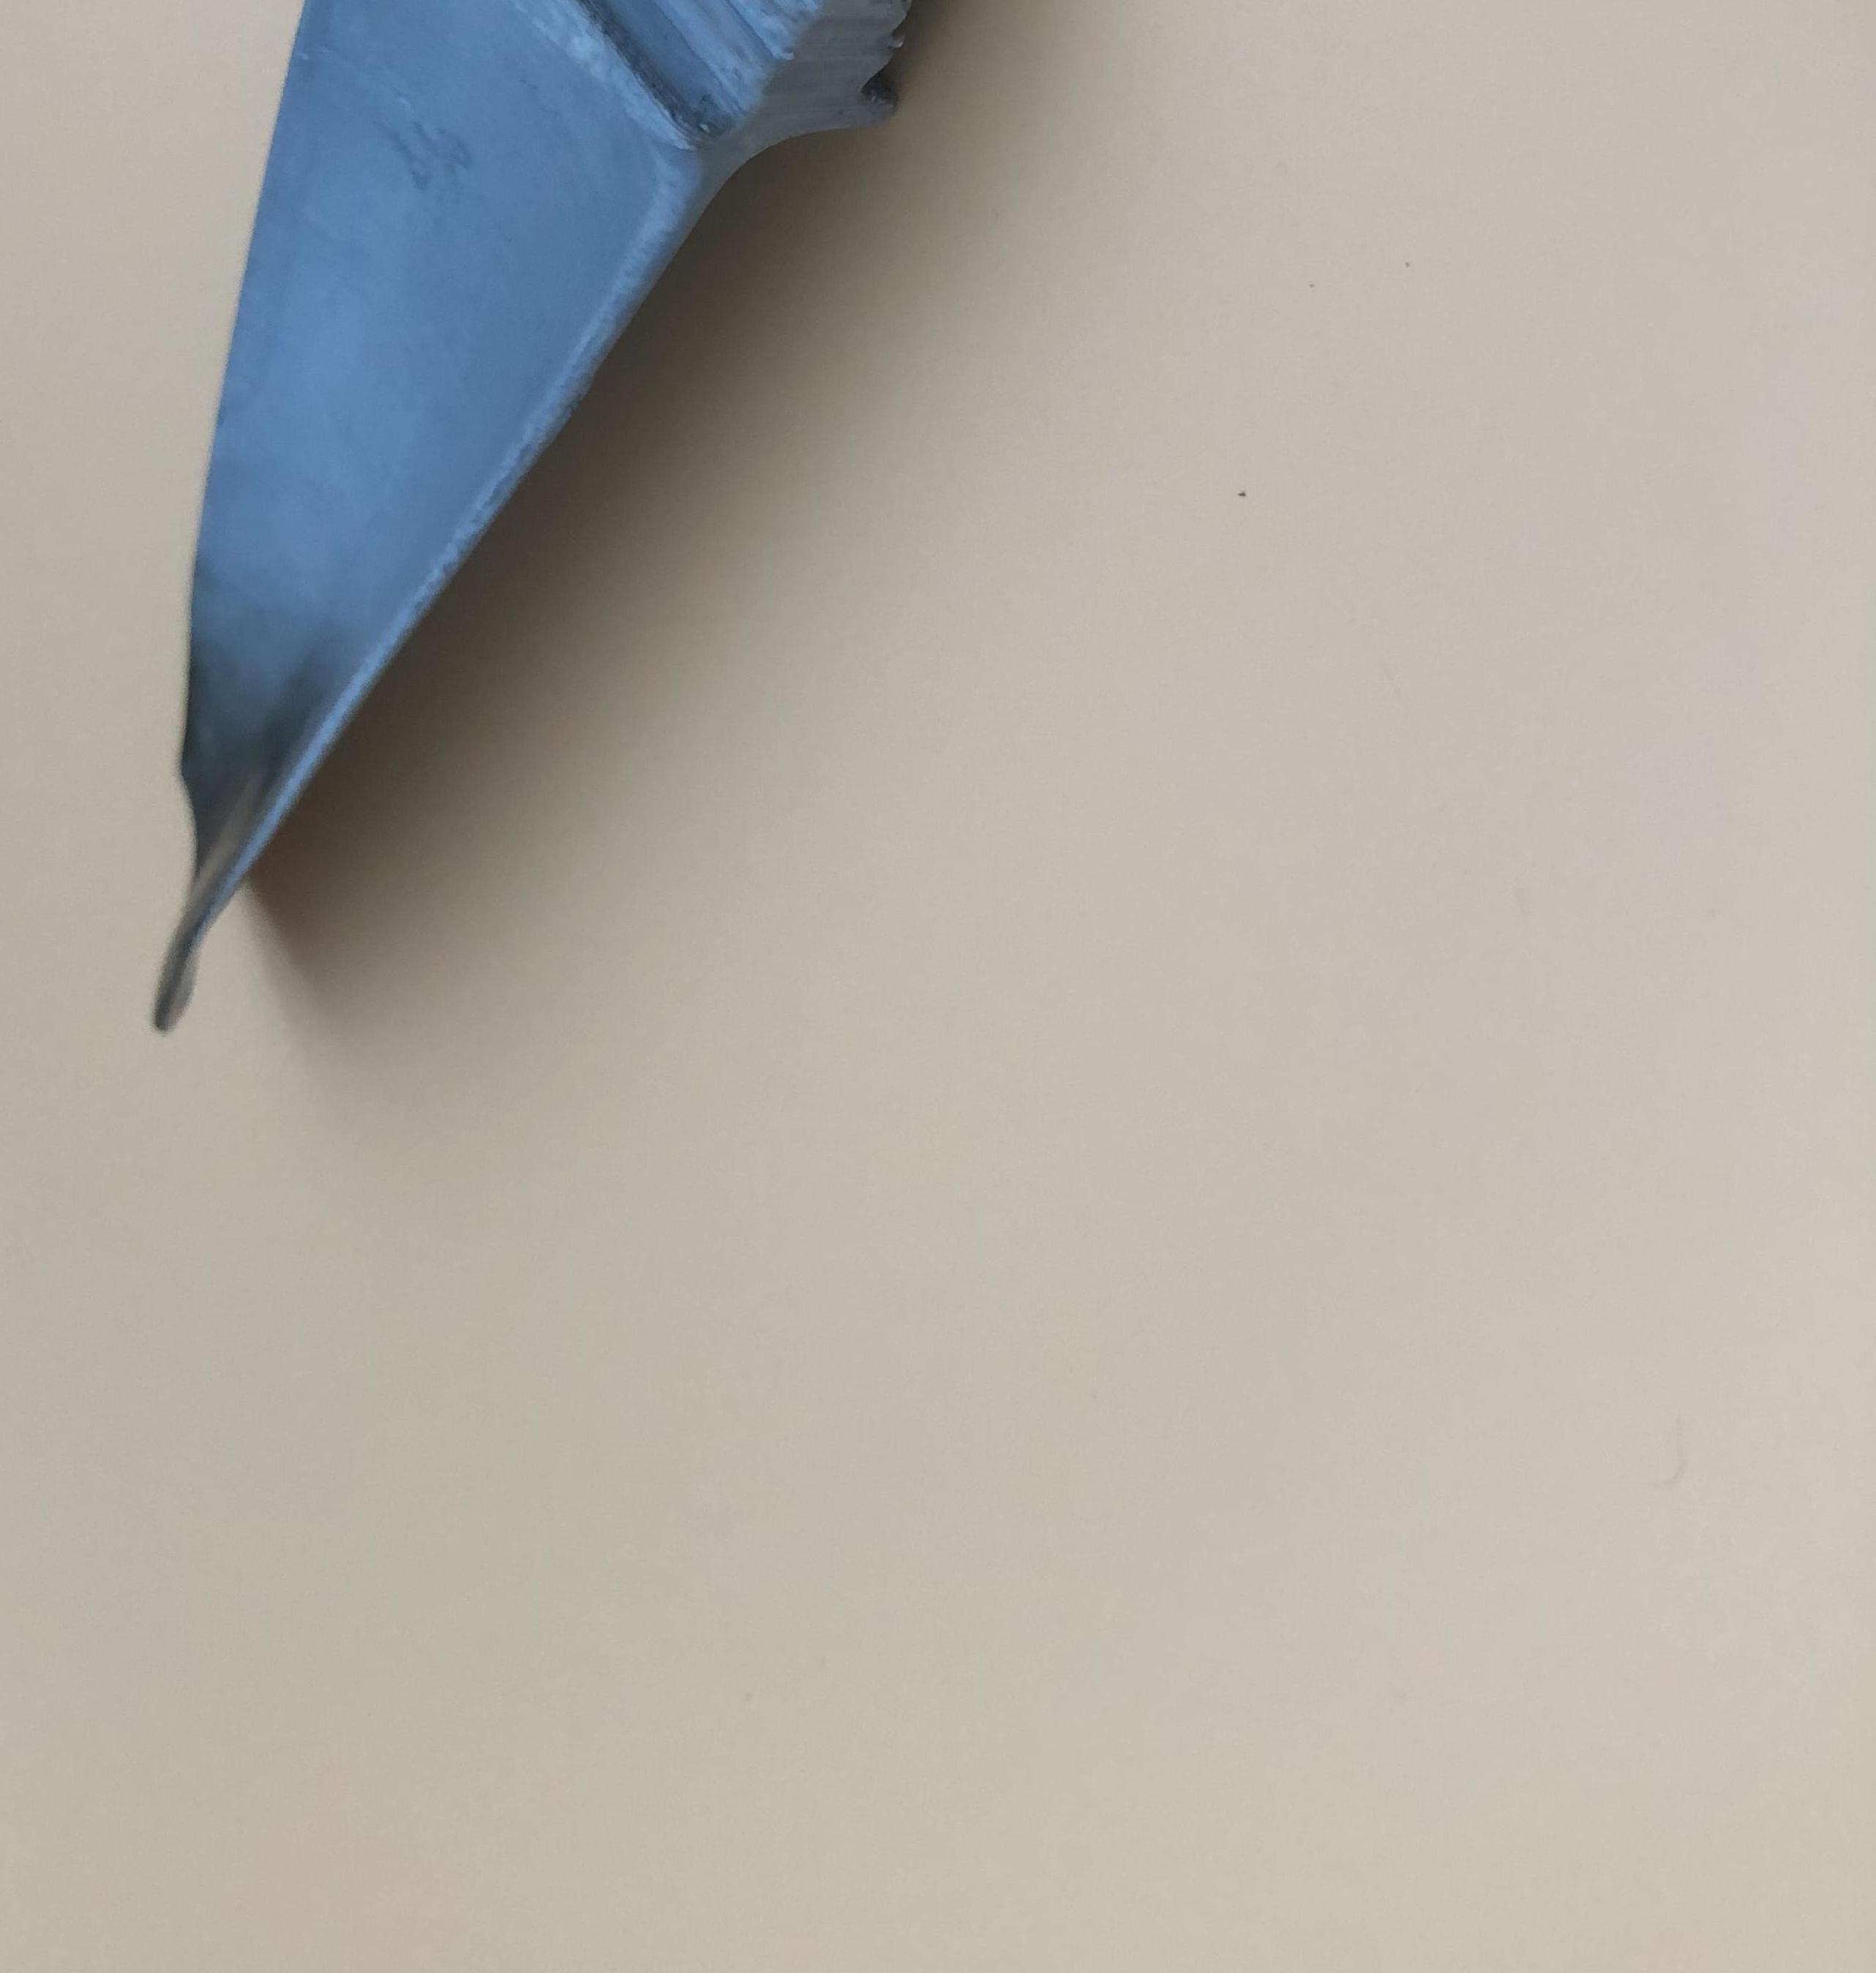ablation: (167, 691, 287, 1004)
